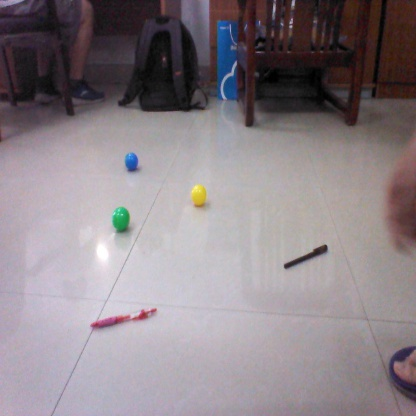ball: (111, 206, 131, 231), (188, 185, 210, 204), (122, 151, 144, 170)
pen: (90, 305, 159, 327), (278, 244, 330, 269)
